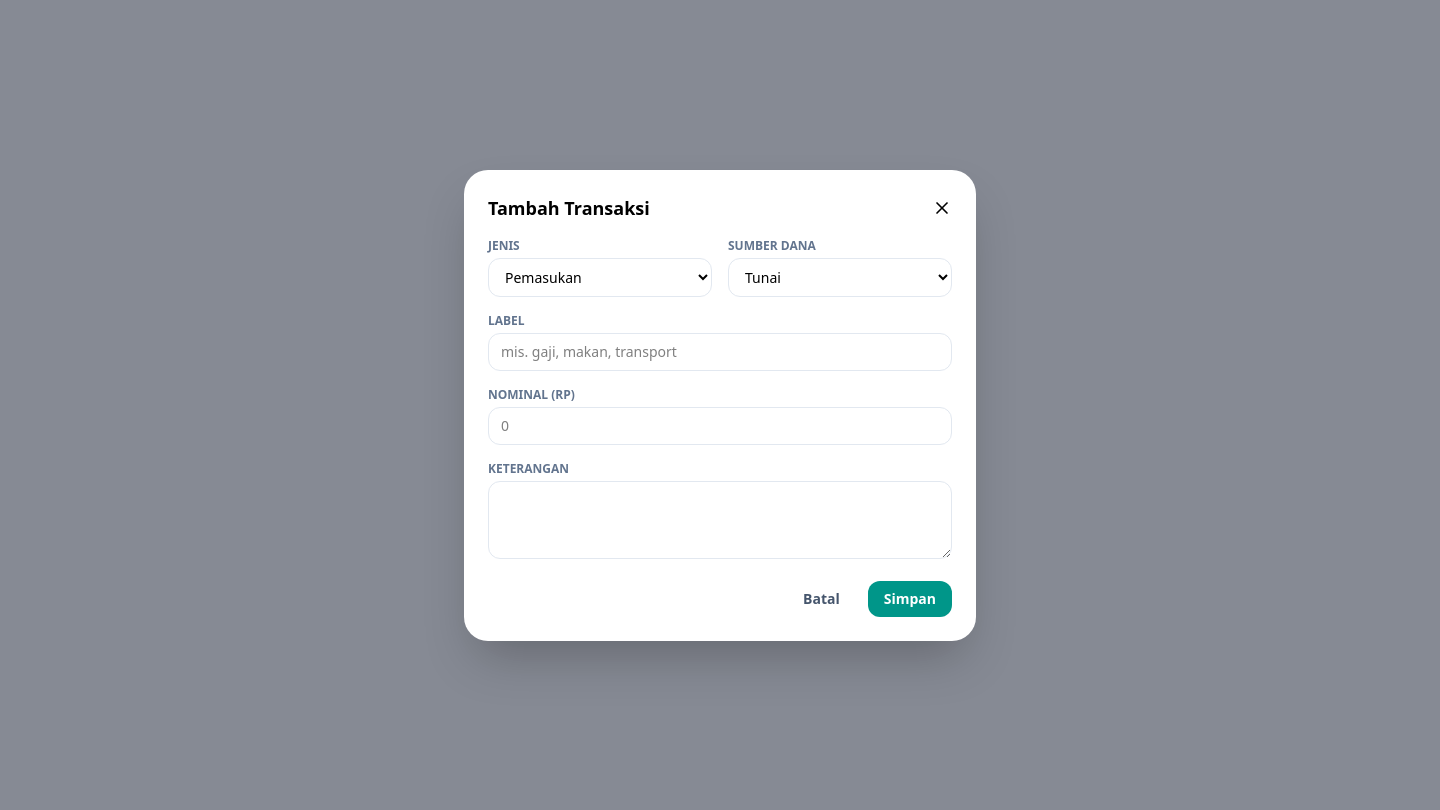
AddModal › should require a label
The width and height of the screenshot is (1440, 810).
Type "1000" into the number field with id "add-nominal" at (720, 426), box [488,406,952,444]
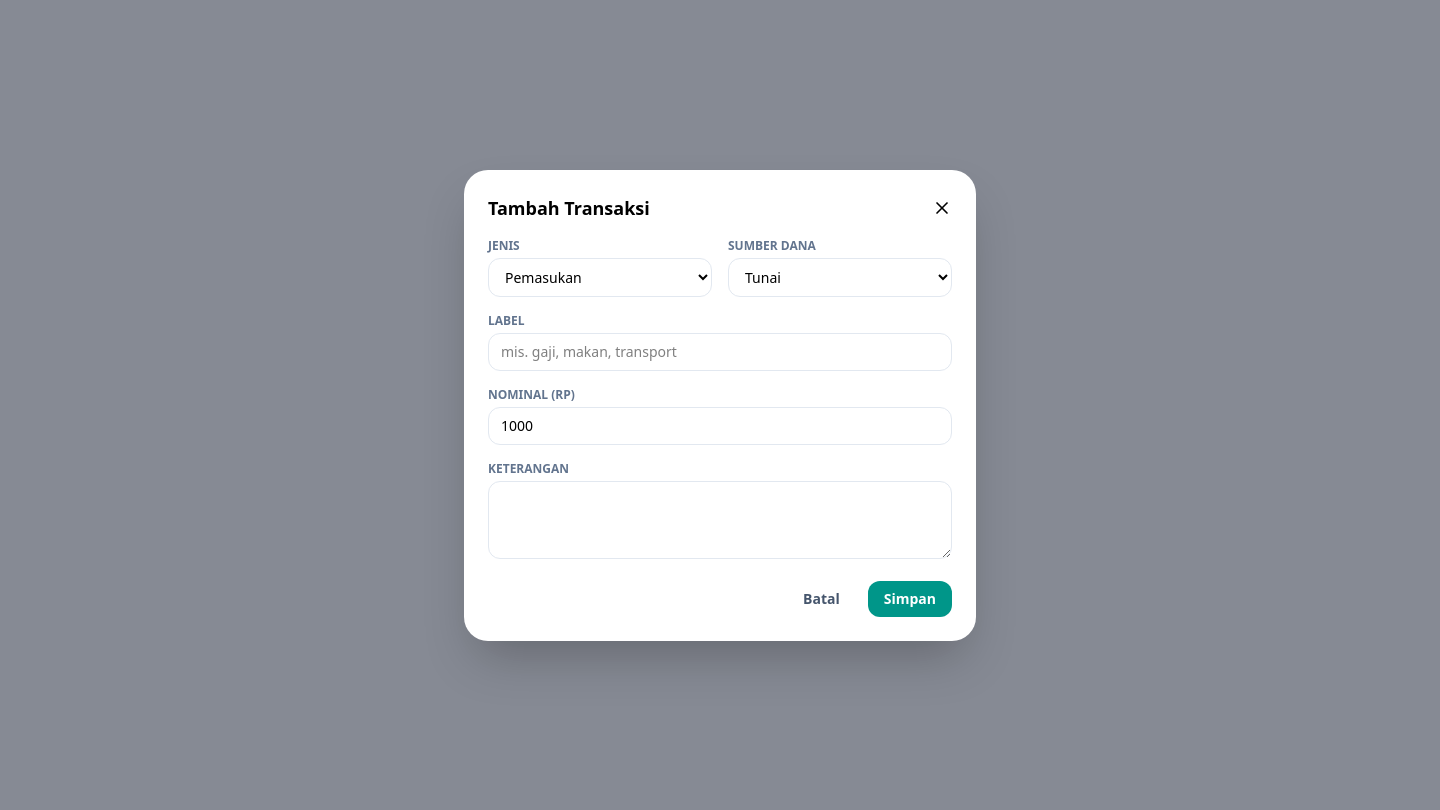
Submit the form, box [464,170,976,640]
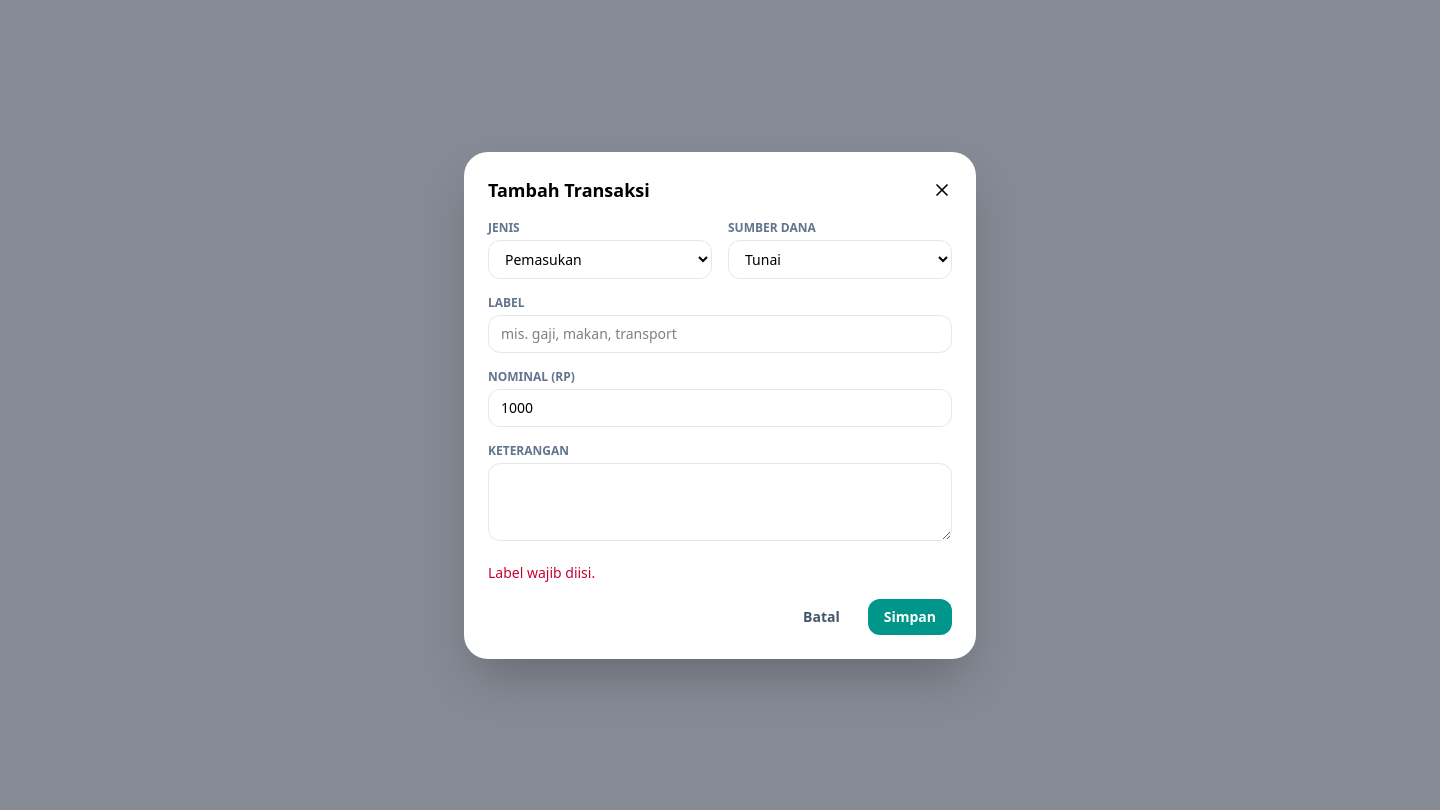
Expected: the text with test id "add-error" shows "Label wajib diisi", [488,562,595,582]
